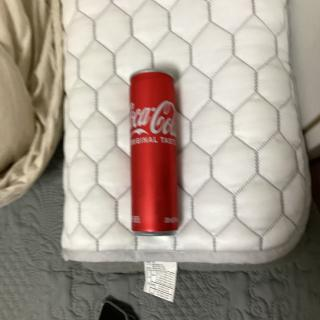cocacola: (124, 68, 186, 243)
